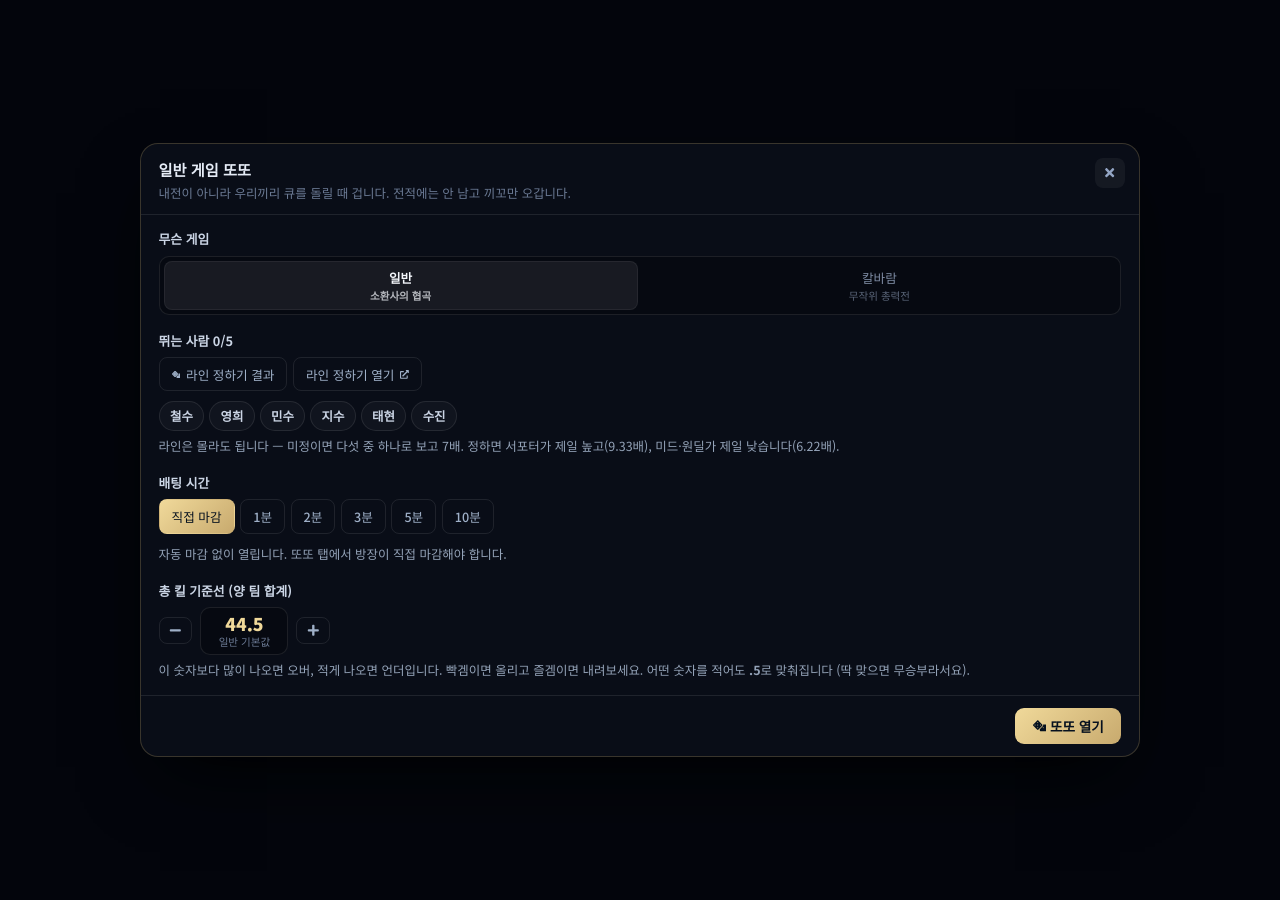
Scenario: 라인 정하기 결과를 한 번에 불러온다
The image size is (1280, 900).
Click the button with class "ghost-btn" showing "라인 정하기 결과".
click(223, 374)  # box x1=159 y1=357 x2=287 y2=391
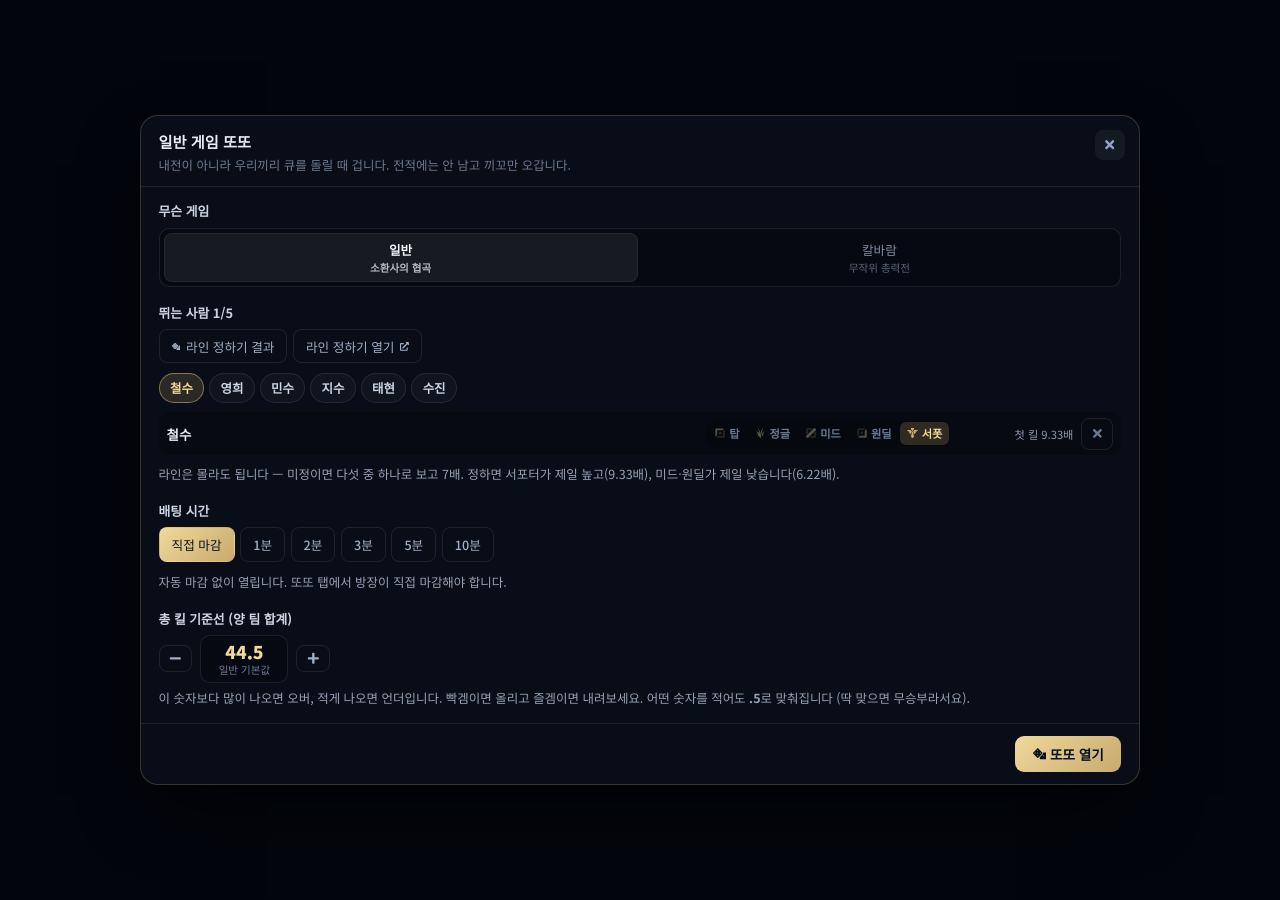
Expected: the number of list items is 1, x1=159 y1=412 x2=1121 y2=455
